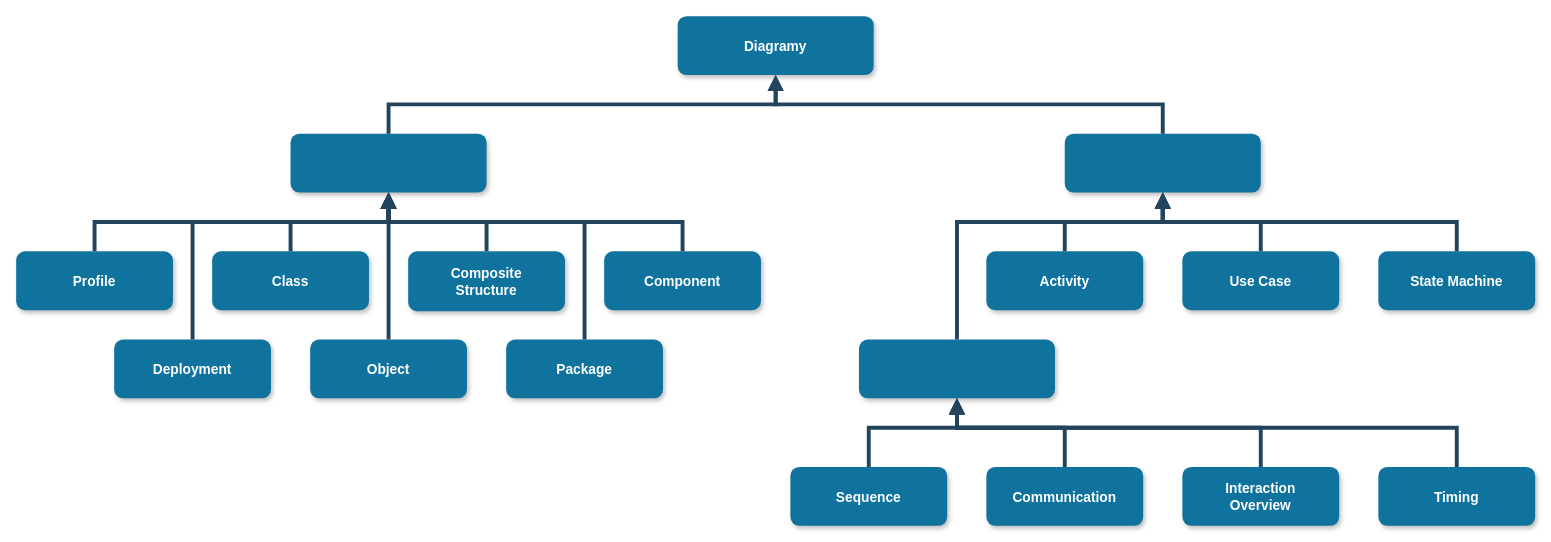
The diagram is 1551 pixels wide and 542 high, and some of its shapes have lost their labels. The centre of each missing label's shape, as x and y in pixels:
"Diagramy chování" belongs at point (1163, 164).
"Diagramy interakce" belongs at point (957, 370).
"Diagramy struktury" belongs at point (389, 164).
